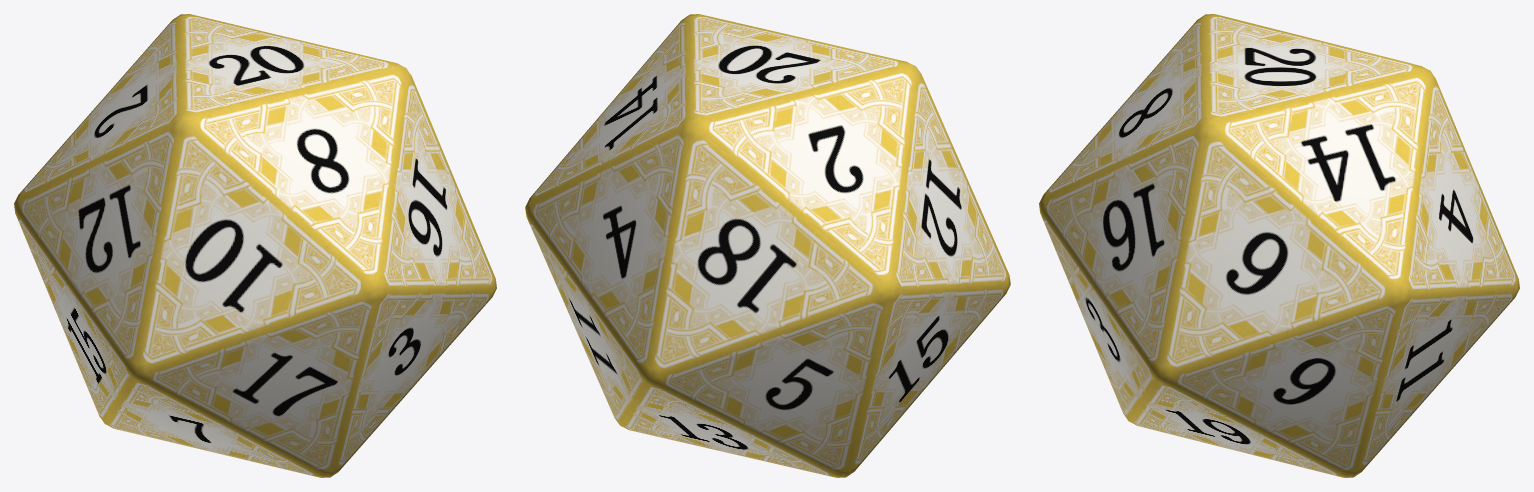
3 renders of one model, left to right at view 1: azimuth 30°, elevation 25°; view 2: azimuth 150°, elevation 25°; view 3: azimuth 270°, elevation 25°, orthographic.
Parts seen in each view (by area): view 1: DiceLinkS; view 2: DiceLinkS; view 3: DiceLinkS.
Boxes of the visible parts, x1,y1,x2,y2 form: DiceLinkS: [14, 14, 496, 477]; DiceLinkS: [525, 14, 1010, 477]; DiceLinkS: [1039, 14, 1519, 477].
Bounding box in the file's own units: 0.5647 × 0.5348 × 0.6418.
Materials: 1 (1 with a texture image).
